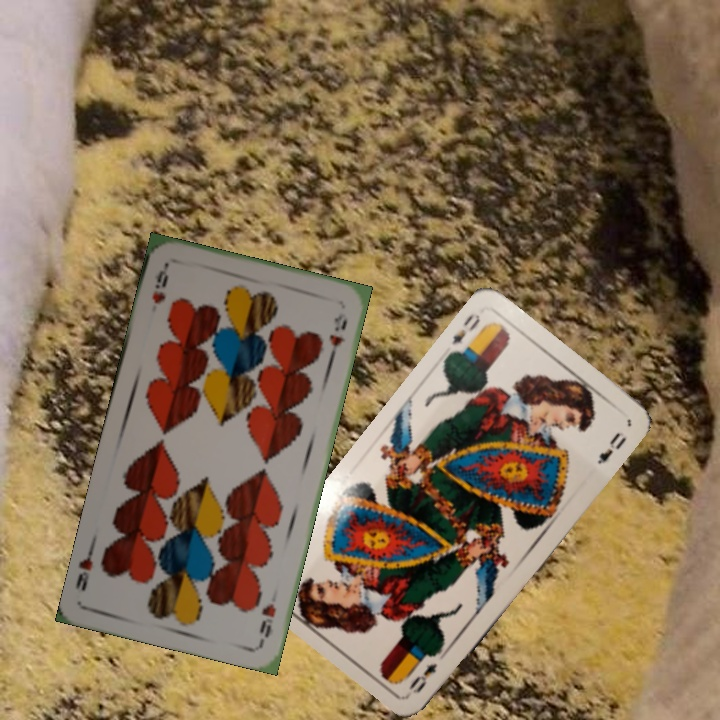EO: (445, 309, 483, 357), (404, 658, 440, 696)
H9: (255, 599, 279, 645), (148, 261, 171, 307)
